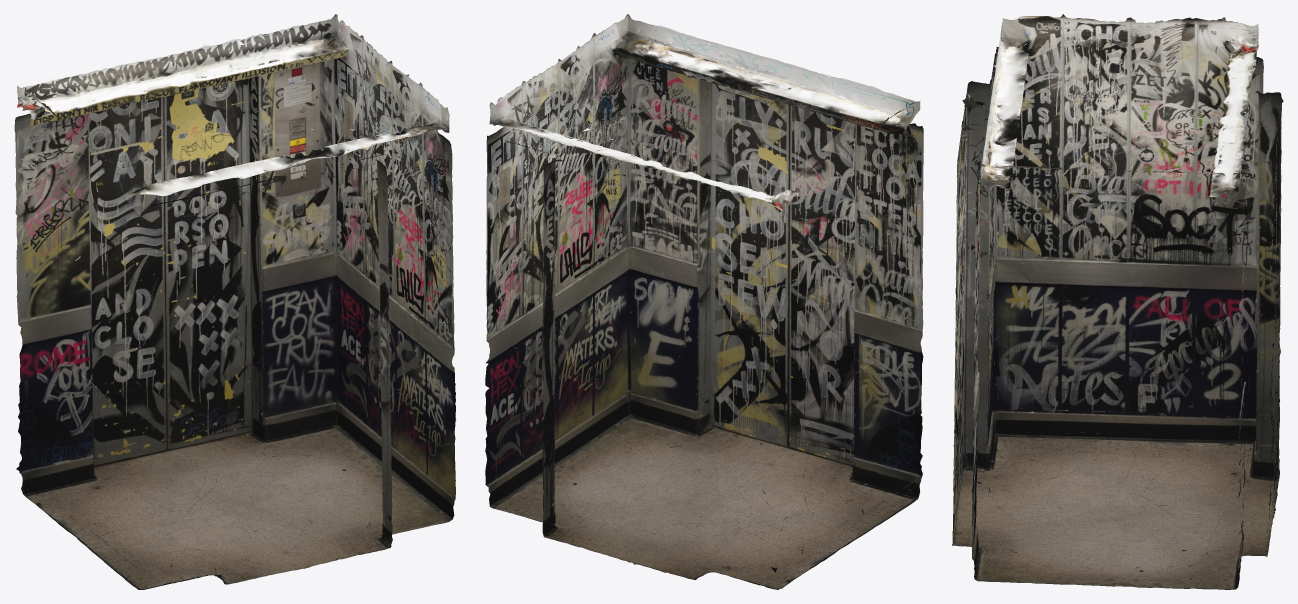
Rendered from elevator.glb.
3 views of the same model, side by side, from view 1: azimuth 30°, elevation 25°; view 2: azimuth 150°, elevation 25°; view 3: azimuth 270°, elevation 25° (orthographic). The views are drawn at different scales.
Parts seen in each view (by area): view 1: Object_3, Object_2, Object_5, Object_4, Object_6; view 2: Object_2, Object_3, Object_4, Object_5, Object_6; view 3: Object_6, Object_4, Object_5, Object_2, Object_3.
Part boxes in pixels (x1=…): Object_3: x1=14, y1=98, x2=455, y2=583; Object_2: x1=16, y1=21, x2=455, y2=580; Object_5: x1=16, y1=14, x2=423, y2=589; Object_4: x1=19, y1=14, x2=453, y2=581; Object_6: x1=17, y1=20, x2=396, y2=528; Object_2: x1=485, y1=14, x2=921, y2=572; Object_3: x1=542, y1=89, x2=923, y2=579; Object_4: x1=486, y1=41, x2=920, y2=589; Object_5: x1=485, y1=14, x2=923, y2=578; Object_6: x1=488, y1=54, x2=921, y2=553; Object_6: x1=955, y1=24, x2=1283, y2=589; Object_4: x1=958, y1=14, x2=1281, y2=567; Object_5: x1=952, y1=23, x2=1281, y2=555; Object_2: x1=954, y1=16, x2=1280, y2=587; Object_3: x1=952, y1=24, x2=1279, y2=582.
Size of the model in its own units: 18.47 by 22.64 by 16.
Materials: 5 (5 with a texture image).
